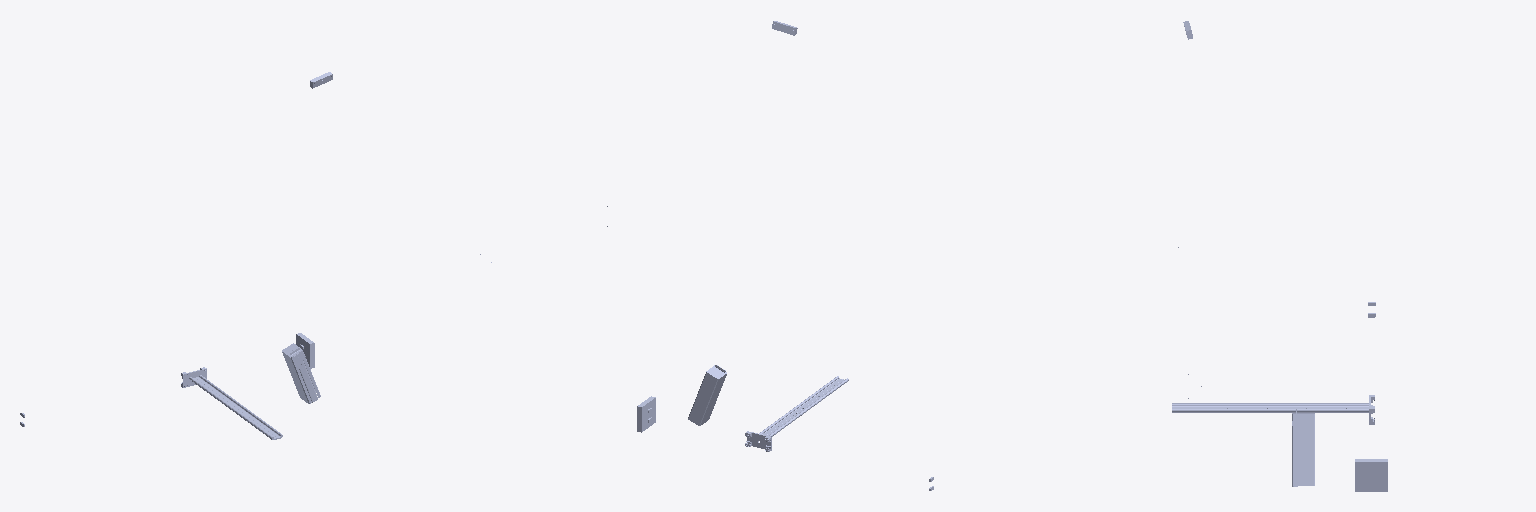
--- Facts derived from the render (not from the file) ---
Views: 3 orthographic renders of the robot side by side, from view 1: azimuth 30°, elevation 25°; view 2: azimuth 150°, elevation 25°; view 3: azimuth 270°, elevation 25°.
Model robo_description with 21 links and 20 joints (2 revolute, 2 prismatic, 16 fixed), rooted at base_link, posed joints at zero except 1 at the middle of their limits (joint5 = 0.4665).
Links seen in each view (by area): view 1: link2, link5; view 2: link2, link5, base_link; view 3: link2, link5, base_link.
Link boxes in pixels (box(x1,y1,x2,y2)): link2: box(181, 367, 282, 439); link5: box(282, 343, 320, 403); link2: box(745, 376, 848, 451); link5: box(688, 365, 726, 425); base_link: box(637, 396, 933, 490); link2: box(1172, 395, 1374, 424); link5: box(1292, 409, 1314, 486); base_link: box(1355, 302, 1387, 491).
Bounding box of the posed robot: 1.65 × 0.657 × 1.48 m (x, y, z).
Meshes: 6 distinct files referenced, 4 mesh visuals loaded (4 binary STL); not drawn: 2 (reference not matched to a file when rendering).

robot.urdf — robo_description:
<?xml version="1.0" encoding="utf-8"?>
<!-- 25AUG2023 Changed the minimum limit of lJoint5 to 0.247 and max to 0.686 -->
<!-- This URDF was automatically created by SolidWorks to URDF Exporter! Originally created by Stephen Brawner ([email redacted]) 
     Commit Version: 1.6.0-4-g7f85cfe  Build Version: 1.6.7995.38578
     For more information, please see http://wiki.ros.org/sw_urdf_exporter -->
<robot
  name="robo_description">
  <link
    name="base_link">
    <inertial>
      <origin
        xyz="-5.13826234849775E-17 -1.63904738952765E-17 0.339473684210526"
        rpy="0 0 0" />
      <mass
        value="19" />
      <inertia
        ixx="2.34956140350877"
        ixy="1.11311423041845E-17"
        ixz="3.69215798456927E-16"
        iyy="2.34956140350877"
        iyz="-7.44985984223617E-17"
        izz="0.151666666666667" />
    </inertial>
    <visual>
      <origin
        xyz="0 0 0"
        rpy="0 0 0" />
      <geometry>
        <mesh
          filename="package://robo_description/meshes/base_link.STL" />
      </geometry>
      <material
        name="">
        <color
          rgba="0.792156862745098 0.819607843137255 0.933333333333333 1" />
      </material>
    </visual>
    <collision>
      <origin
        xyz="0 0 0"
        rpy="0 0 0" />
      <geometry>
        <mesh
          filename="package://robo_description/meshes/base_link.STL" />
      </geometry>
    </collision>
  </link>
  <link
    name="link2">
    <inertial>
      <origin
        xyz="-0.001261 -0.2858 0.14572"
        rpy="0 0 0" />
      <mass
        value="3.13280329013611" />
      <inertia
        ixx="0.0169430024052603"
        ixy="-0.00280446630124331"
        ixz="0.0223183329111622"
        iyy="0.162057682822749"
        iyz="0.000505061238040558"
        izz="0.161640952999751" />
    </inertial>
    <visual>
      <origin
        xyz="0 0 -1"
        rpy="0 0 0" />
      <geometry>
        <mesh
          filename="package://robo_description/meshes/link2.STL" />
      </geometry>
      <material
        name="">
        <color
          rgba="0.792156862745098 0.819607843137255 0.933333333333333 1" />
      </material>
    </visual>
    <collision>
      <origin
        xyz="0 0 0"
        rpy="0 0 0" />
      <geometry>
        <mesh
          filename="package://robo_description/meshes/link2.STL" />
      </geometry>
    </collision>
  </link>
  <joint
    name="joint2"
    type="prismatic">
    <origin
      xyz="0.0 0 1"
      rpy="0 0 0" />
    <parent
      link="base_link" />
    <child
      link="link2" />
    <axis
      xyz="0 0 1" />
    <limit
      lower="0"
      upper="1"
      effort="0"
      velocity="0" />
  </joint>
  <link
    name="link4">
    <inertial>
      <origin
        xyz="-0.000438554587764983 0.0620490502692163 -0.172885898172371"
        rpy="0 0 0" />
      <mass
        value="0.162146723185788" />
      <inertia
        ixx="0.00336616371871891"
        ixy="1.46811284877534E-06"
        ixz="-3.57096843523024E-06"
        iyy="0.00312866852492012"
        iyz="0.00048231220150353"
        izz="0.000338308018448651" />
    </inertial>
    <visual>
      <origin
        xyz="-0.4665 0 -0.790"
        rpy="0 0 0" />
      <geometry>
        <mesh
          filename="package://robo_description/meshes/link4.STL" />
      </geometry>
      <material
        name="">
        <color
          rgba="0.792156862745098 0.819607843137255 0.933333333333333 1" />
      </material>
    </visual>
    <collision>
      <origin
        xyz="0 0 0"
        rpy="0 0 0" />
      <geometry>
        <mesh
          filename="package://robo_description/meshes/link4.STL" />
      </geometry>
    </collision>
  </link>
  <joint
    name="joint4"
    type="revolute">
    <origin
      xyz="0.46904 0 -0.21"
      rpy="0 0 0" />
    <parent
      link="link2" />
    <child
      link="link4" />
    <axis
      xyz="0 0 1" />
    <limit
      lower="-2.9671"
      upper="2.9671"
      effort="0"
      velocity="0" />
  </joint>
  <link
    name="link3">
    <inertial>
      <origin
        xyz="-0.0832189655707039 -0.0894795892974461 -0.00179630042130147"
        rpy="0 0 0" />
      <mass
        value="1.71811977068641" />
      <inertia
        ixx="0.00948440583507882"
        ixy="-0.00159429497921182"
        ixz="0.00308193362516688"
        iyy="0.035537875179704"
        iyz="0.000648421421055908"
        izz="0.0305779645247813" />
    </inertial>
    <visual>
      <origin
        xyz="-0.468545 -0.078 -0.43528"
        rpy="0 0 0" />
      <geometry>
        <mesh
          filename="package://robo_description/meshes/link3.STL" />
      </geometry>
      <material
        name="">
        <color
          rgba="0.792156862745098 0.819607843137255 0.933333333333333 1" />
      </material>
    </visual>
    <collision>
      <origin
        xyz="0 0 0"
        rpy="0 0 0" />
      <geometry>
        <mesh
          filename="package://robo_description/meshes/link3.STL" />
      </geometry>
    </collision>
  </link>
  <joint
    name="joint3"
    type="revolute">
    <origin
      xyz="0.0 0.077824 -0.35472"
      rpy="0 0 0" />
    <parent
      link="link4" />
    <child
      link="link3" />
    <axis
      xyz="0 1 0" />
    <limit
      lower="-1.5708"
      upper="1.5708"
      effort="0"
      velocity="0" />
  </joint>
  <link
    name="yanthra_link">
    <inertial>
      <origin
        xyz="-0.0832189655707036 -0.0114795892974462 -0.00179630042130124"
        rpy="0 0 0" />
      <mass
        value="1.71811977068641" />
      <inertia
        ixx="0.00948440583507882"
        ixy="-0.00159429497921182"
        ixz="0.0030819336251669"
        iyy="0.035537875179704"
        iyz="0.000648421421055907"
        izz="0.0305779645247813" />
    </inertial>
    <visual>
      <origin
        xyz="0 0 0"
        rpy="0 0 0" />
      <geometry>
        <box size="0.001 0.001 0.001"/>
      </geometry>
      <material
        name="">
        <color
          rgba="0.792156862745098 0.819607843137255 0.933333333333333 1" />
      </material>
    </visual>
    <collision>
      <origin
        xyz="0 0 0"
        rpy="0 0 0" />
      <geometry>
        <box size="0.001 0.001 0.001"/>
      </geometry>
    </collision>
  </link>
  <joint
    name="yanthra_joint"
    type="fixed">
    <origin
      xyz="0 -0.078 0"
      rpy="0 0 0" />
    <parent
      link="link3" />
    <child
      link="yanthra_link" />
    <axis
      xyz="0 0 0" />
  </joint>
  <link
    name="link5_origin">
    <inertial>
      <origin
        xyz="-0.00874999999999998 0.0375 -0.00507843424240889"
        rpy="0 0 0" />
      <mass
        value="0.0438088883035136" />
      <inertia
        ixx="3.24913884800222E-05"
        ixy="1.33063310958086E-21"
        ixz="-8.470329472543E-22"
        iyy="3.99574478810853E-06"
        iyz="-3.38875204913906E-21"
        izz="3.07317223657389E-05" />
    </inertial>
    <visual>
      <origin
        xyz="0 0 0"
        rpy="0 0 0" />
      <geometry>
        <box size="0.001 0.001 0.001"/>
      </geometry>
      <material
        name="">
        <color
          rgba="0.792156862745098 0.819607843137255 0.933333333333333 1" />
      </material>
    </visual>
    <collision>
      <origin
        xyz="0 0 0"
        rpy="0 0 0" />
      <geometry>
        <box size="0.001 0.001 0.001"/>
      </geometry>
    </collision>
  </link>
  <joint
    name="link5_origin_joint"
    type="fixed">
    <origin
      xyz="0 0 0.0"
      rpy="0 0 0" />
    <parent	
      link="yanthra_link" />
    <child
      link="link5_origin" />
    <axis
      xyz="0 0 0" />
  </joint>
  <link
    name="link5">
    <inertial>
      <origin
        xyz="0.108132413871145 2.08242781028485E-06 0.00569147154470495"
        rpy="0 0 0" />
      <mass
        value="0.277404400359573" />
      <inertia
        ixx="0.00021628976171093"
        ixy="1.27900715148446E-06"
        ixz="-0.000135093187106687"
        iyy="0.00359200319167061"
        iyz="-8.36237914028336E-08"
        izz="0.00358633509004247" />
    </inertial>
    <visual>
      <origin
        xyz="-0.715545 0 -0.43528"
        rpy="0 0 0" />
      <geometry>
        <mesh
          filename="package://robo_description/meshes/link5.STL" />
      </geometry>
      <material
        name="">
        <color
          rgba="0.792156862745098 0.819607843137255 0.933333333333333 1" />
      </material>
    </visual>
    <collision>
      <origin
        xyz="0 0 0"
        rpy="0 0 0" />
      <geometry>
        <mesh
          filename="package://robo_description/meshes/link5.STL" />
      </geometry>
    </collision>
  </link>
  <joint
    name="joint5"
    type="prismatic">
    <origin
      xyz="0.0 0 0"
      rpy="0 0 0" />
    <parent
      link="link5_origin" />
    <child
      link="link5" />
    <axis
      xyz="1 0 0" />
    <limit
      lower="0.247"
      upper="0.686"
      effort="0"
      velocity="0" />
  </joint>
  <link
    name="ee_link">
    <inertial>
      <origin
        xyz="-0.00874999999999998 0.0375 -0.00507843424240889"
        rpy="0 0 0" />
      <mass
        value="0.0438088883035136" />
      <inertia
        ixx="3.24913884800222E-05"
        ixy="1.33063310958086E-21"
        ixz="-8.470329472543E-22"
        iyy="3.99574478810853E-06"
        iyz="-3.38875204913906E-21"
        izz="3.07317223657389E-05" />
    </inertial>
    <visual>
      <origin
        xyz="0 0 0"
        rpy="0 0 0" />
      <geometry>
        <box size="0.001 0.001 0.001"/>
      </geometry>
      <material
        name="">
        <color
          rgba="0.792156862745098 0.819607843137255 0.933333333333333 1" />
      </material>
    </visual>
    <collision>
      <origin
        xyz="0 0 0"
        rpy="0 0 0" />
      <geometry>
        <box size="0.001 0.001 0.001"/>
      </geometry>
    </collision>
  </link>
  <joint
    name="ee_joint"
    type="fixed">
    <origin
      xyz="-0.085 0 0"
      rpy="0 0 0" />
    <parent	
      link="link5" />
    <child
      link="ee_link" />
    <axis
      xyz="0 0 0" />
  </joint>
  <link
    name="aruco_marker_link">
    <inertial>
      <origin
        xyz="-0.00874999999999998 0.0375 -0.00507843424240889"
        rpy="0 0 0" />
      <mass
        value="0.0438088883035136" />
      <inertia
        ixx="3.24913884800222E-05"
        ixy="1.33063310958086E-21"
        ixz="-8.470329472543E-22"
        iyy="3.99574478810853E-06"
        iyz="-3.38875204913906E-21"
        izz="3.07317223657389E-05" />
    </inertial>
    <visual>
      <origin
        xyz="0 0 0"
        rpy="0 0 0" />
      <geometry>
        <box size="0.001 0.001 0.001"/>
      </geometry>
      <material
        name="">
        <color
          rgba="0.792156862745098 0.819607843137255 0.933333333333333 1" />
      </material>
    </visual>
    <collision>
      <origin
        xyz="0 0 0"
        rpy="0 0 0" />
      <geometry>
        <box size="0.001 0.001 0.001"/>
      </geometry>
    </collision>
  </link>
  <joint
    name="aruco_joint"
    type="fixed">
    <origin
      xyz="0.0 0 0.08"
      rpy="0 0 0" />
    <parent	
      link="ee_link" />
    <child
      link="aruco_marker_link" />
    <axis
      xyz="0 0 0" />
  </joint>
  <link
    name="aruco_link_1">
    <inertial>
      <origin
        xyz="-0.00874999999999998 0.0375 -0.00507843424240889"
        rpy="0 0 0" />
      <mass
        value="0.0438088883035136" />
      <inertia
        ixx="3.24913884800222E-05"
        ixy="1.33063310958086E-21"
        ixz="-8.470329472543E-22"
        iyy="3.99574478810853E-06"
        iyz="-3.38875204913906E-21"
        izz="3.07317223657389E-05" />
    </inertial>
    <visual>
      <origin
        xyz="0 0 0"
        rpy="0 0 0" />
      <geometry>
        <box size="0.001 0.001 0.001"/>
      </geometry>
      <material
        name="">
        <color
          rgba="0.792156862745098 0.819607843137255 0.933333333333333 1" />
      </material>
    </visual>
    <collision>
      <origin
        xyz="0 0 0"
        rpy="0 0 0" />
      <geometry>
        <box size="0.001 0.001 0.001"/>
      </geometry>
    </collision>
  </link>
  <joint
    name="aruco_joint_1"
    type="fixed">
    <origin
      xyz="0.0 0.04 0.04"
      rpy="0 0 0" />
    <parent	
      link="aruco_marker_link" />
    <child
      link="aruco_link_1" />
    <axis
      xyz="0 0 0" />
  </joint>
  <link
    name="aruco_link_2">
    <inertial>
      <origin
        xyz="-0.00874999999999998 0.0375 -0.00507843424240889"
        rpy="0 0 0" />
      <mass
        value="0.0438088883035136" />
      <inertia
        ixx="3.24913884800222E-05"
        ixy="1.33063310958086E-21"
        ixz="-8.470329472543E-22"
        iyy="3.99574478810853E-06"
        iyz="-3.38875204913906E-21"
        izz="3.07317223657389E-05" />
    </inertial>
    <visual>
      <origin
        xyz="0 0 0"
        rpy="0 0 0" />
      <geometry>
        <box size="0.001 0.001 0.001"/>
      </geometry>
      <material
        name="">
        <color
          rgba="0.792156862745098 0.819607843137255 0.933333333333333 1" />
      </material>
    </visual>
    <collision>
      <origin
        xyz="0 0 0"
        rpy="0 0 0" />
      <geometry>
        <box size="0.001 0.001 0.001"/>
      </geometry>
    </collision>
  </link>
  <joint
    name="aruco_joint_2"
    type="fixed">
    <origin
      xyz="0.0 -0.04 0.04"
      rpy="0 0 0" />
    <parent	
      link="aruco_marker_link" />
    <child
      link="aruco_link_2" />
    <axis
      xyz="0 0 0" />
  </joint>
  <link
    name="aruco_link_3">
    <inertial>
      <origin
        xyz="-0.00874999999999998 0.0375 -0.00507843424240889"
        rpy="0 0 0" />
      <mass
        value="0.0438088883035136" />
      <inertia
        ixx="3.24913884800222E-05"
        ixy="1.33063310958086E-21"
        ixz="-8.470329472543E-22"
        iyy="3.99574478810853E-06"
        iyz="-3.38875204913906E-21"
        izz="3.07317223657389E-05" />
    </inertial>
    <visual>
      <origin
        xyz="0 0 0"
        rpy="0 0 0" />
      <geometry>
        <box size="0.001 0.001 0.001"/>
      </geometry>
      <material
        name="">
        <color
          rgba="0.792156862745098 0.819607843137255 0.933333333333333 1" />
      </material>
    </visual>
    <collision>
      <origin
        xyz="0 0 0"
        rpy="0 0 0" />
      <geometry>
        <box size="0.001 0.001 0.001"/>
      </geometry>
    </collision>
  </link>
  <joint
    name="aruco_joint_3"
    type="fixed">
    <origin
      xyz="0.0 0.04 -0.04"
      rpy="0 0 0" />
    <parent	
      link="aruco_marker_link" />
    <child
      link="aruco_link_3" />
    <axis
      xyz="0 0 0" />
  </joint>
  <link
    name="aruco_link_4">
    <inertial>
      <origin
        xyz="-0.00874999999999998 0.0375 -0.00507843424240889"
        rpy="0 0 0" />
      <mass
        value="0.0438088883035136" />
      <inertia
        ixx="3.24913884800222E-05"
        ixy="1.33063310958086E-21"
        ixz="-8.470329472543E-22"
        iyy="3.99574478810853E-06"
        iyz="-3.38875204913906E-21"
        izz="3.07317223657389E-05" />
    </inertial>
    <visual>
      <origin
        xyz="0 0 0"
        rpy="0 0 0" />
      <geometry>
        <box size="0.001 0.001 0.001"/>
      </geometry>
      <material
        name="">
        <color
          rgba="0.792156862745098 0.819607843137255 0.933333333333333 1" />
      </material>
    </visual>
    <collision>
      <origin
        xyz="0 0 0"
        rpy="0 0 0" />
      <geometry>
        <box size="0.001 0.001 0.001"/>
      </geometry>
    </collision>
  </link>
  <joint
    name="aruco_joint_4"
    type="fixed">
    <origin
      xyz="0.0 -0.04 -0.04"
      rpy="0 0 0" />
    <parent	
      link="aruco_marker_link" />
    <child
      link="aruco_link_4" />
    <axis
      xyz="0 0 0" />
  </joint>
  <link
    name="link7">
    <inertial>
      <origin
        xyz="-0.00129487747822488 -0.0114795892973884 0.11996423535158"
        rpy="0 0 0" />
      <mass
        value="1.71811977068641" />
      <inertia
        ixx="0.0113386071435481"
        ixy="-0.00171490439294498"
        ixz="-0.00672100859249017"
        iyy="0.0355378751797041"
        iyz="-0.0001460470577602"
        izz="0.0287237632163119" />
    </inertial>
    <visual>
      <origin
        xyz="0 0 0"
        rpy="0 0 0" />
      <geometry>
        <box size="0.001 0.001 0.001"/>
      </geometry>
      <material
        name="">
        <color
          rgba="0.792156862745098 0.819607843137255 0.933333333333333 1" />
      </material>
    </visual>
    <collision>
      <origin
        xyz="0 0 0"
        rpy="0 0 0" />
      <geometry>
        <box size="0.001 0.001 0.001"/>
      </geometry>
    </collision>
  </link>
  <joint
    name="joint7"
    type="fixed">
    <origin
      xyz="0.47229 -0.069971 0.80411"
      rpy="0 0.785398 -1.5708" />
    <parent
      link="base_link"/>
    <child
      link="link7"/>
    <axis
      xyz="0 0 0" />
  </joint>
  <link
    name="camera_mount_link">
    <inertial>
      <origin
        xyz="-0.00129487747822488 -0.0114795892973883 0.11996423535158"
        rpy="0 0 0" />
      <mass
        value="1.71811977068641" />
      <inertia
        ixx="0.0113386071435481"
        ixy="-0.00171490439294498"
        ixz="-0.00672100859249018"
        iyy="0.0355378751797041"
        iyz="-0.000146047057760202"
        izz="0.0287237632163119" />
    </inertial>
    <visual>
      <origin
        xyz="0 0 0"
        rpy="0 0 0" />
      <geometry>
        <box size="0.001 0.001 0.001"/>
      </geometry>
      <material
        name="">
        <color
          rgba="0.792156862745098 0.819607843137255 0.933333333333333 1" />
      </material>
    </visual>
    <collision>
      <origin
        xyz="0 0 0"
        rpy="0 0 0" />
      <geometry>
        <box size="0.001 0.001 0.001"/>
      </geometry>
    </collision>
  </link>
     <!--Realsense Camera depth is 20 mm from back to glass, But the depth start point(GROUND ZERO REFERENCE i.e depth is Zero) is 1.1 mm behind glass-->
     <!--Camera thickness-Zero Ref +Plate thick=20-1.1+2 = 20.09 mm -->
     <!-- xyz="0.0209 -0.0375 0"-->
  <joint
    name="camera_mount_joint"
    type="fixed">
    <origin
      xyz="0.02090 -0.0375 0"
      rpy="-1.5708 0 -1.5708" />
    <parent
      link="link7" />
    <child
      link="camera_mount_link" />
    <axis
      xyz="0 0 0" />
  </joint>
  <link
    name="virtual_cam_link">
    <inertial>
      <origin
        xyz="-0.00874999999999998 0.0375 -0.00507843424240889"
        rpy="0 0 0" />
      <mass
        value="0.0438088883035136" />
      <inertia
        ixx="3.24913884800222E-05"
        ixy="1.33063310958086E-21"
        ixz="-8.470329472543E-22"
        iyy="3.99574478810853E-06"
        iyz="-3.38875204913906E-21"
        izz="3.07317223657389E-05" />
    </inertial>
    <visual>
      <origin
        xyz="0 0 0"
        rpy="0 0 0" />
      <geometry>
        <box size="0.001 0.001 0.001"/>
      </geometry>
      <material
        name="">
        <color
          rgba="0.792156862745098 0.819607843137255 0.933333333333333 1" />
      </material>
    </visual>
    <collision>
      <origin
        xyz="0 0 0"
        rpy="0 0 0" />
      <geometry>
        <box size="0.001 0.001 0.001"/>
      </geometry>
    </collision>
  </link>
  <joint
    name="virtual_cam_link_joint"
    type="fixed">
    <origin
      xyz="0 0 0"
      rpy="0 0 0" />
    <parent	
      link="camera_mount_link" />
    <child
      link="virtual_cam_link" />
    <axis
      xyz="0 0 0" />
  </joint>

  <link
    name="camera_link">
    <inertial>
      <origin
        xyz="-0.00874999999999998 0.0375 -0.00507843424240889"
        rpy="0 0 0" />
      <mass
        value="0.0438088883035136" />
      <inertia
        ixx="3.24913884800222E-05"
        ixy="1.33063310958086E-21"
        ixz="-8.470329472543E-22"
        iyy="3.99574478810853E-06"
        iyz="-3.38875204913906E-21"
        izz="3.07317223657389E-05" />
    </inertial>
    <visual>
      <origin
        xyz="-0.03768 -0.425 -0.175"
        rpy="0 -2.04 -1.5708" />
      <geometry>
        <mesh
          filename="package://robo_description/meshes/camera_link.STL" />
      </geometry>
      <material
        name="">
        <color
          rgba="0.792156862745098 0.819607843137255 0.933333333333333 1" />
      </material>
    </visual>
    <collision>
      <origin
        xyz="0 0 0"
        rpy="0 0 0" />
      <geometry>
        <mesh
          filename="package://robo_description/meshes/camera_link.STL" />
      </geometry>
    </collision>
  </link>
  <joint
    name="camera_link_joint"
    type="fixed">
    <origin
      xyz="0.0318145 0.0192773 -0.0559034"
      rpy="0.243233 -0.149607 0.0182808" />
    <parent
      link="virtual_cam_link" />
    <child
      link="camera_link" />
    <axis
      xyz="0 0 0" />
  </joint>

  <link name="camera_depth_frame">

    <visual>

    <origin xyz="0 0 0" rpy="0 0 0" />

      <geometry>

        <box size="0.001 0.001 0.001"/>

      </geometry>

    </visual>

  </link>

  <joint name="camera_depth_frame_joint" type="fixed">

    <origin rpy="0 0 0" xyz="0 0 0"/>

    <parent link="camera_link"/>

    <child link="camera_depth_frame"/>

  </joint>

  <link name="camera_depth_optical_frame">

    <visual>

    <origin xyz="0 0 0" rpy="0 0 0" />

      <geometry>

        <box size="0.001 0.001 0.001"/>

      </geometry>

    </visual>

  </link>

  <joint name="camera_depth_optical_frame_joint" type="fixed">

   <origin rpy="0 0 0" xyz="0 0 0"/>

   <parent link="camera_depth_frame"/>

   <child link="camera_depth_optical_frame"/>

  </joint>

  <link name="camera_color_frame">

    <visual>

    <origin xyz="0 0 0" rpy="0 0 0" />

      <geometry>

        <box size="0.001 0.001 0.001"/>

      </geometry>

    </visual>

  </link>

  <joint name="camera_color_frame_joint" type="fixed">

    <origin rpy="0 0 0" xyz="0 0 0"/>

    <parent link="camera_link"/>

    <child link="camera_color_frame"/>

  </joint>

  <link name="camera_color_optical_frame">

    <visual>

    <origin xyz="0 0 0" rpy="0 0 0" />

      <geometry>

        <box size="0.001 0.001 0.001"/>

      </geometry>

    </visual>

  </link>

  <joint name="camera_color_optical_frame_joint" type="fixed">

   <origin rpy="0 0 0" xyz="0 0 0"/>

   <parent link="camera_color_frame"/>

   <child link="camera_color_optical_frame"/>

  </joint>
  <gazebo reference="stand">

    <material>Gazebo/Grey</material>

  </gazebo>

  <gazebo reference="link3">

    <material>Gazebo/Green</material>

  </gazebo>

  <gazebo reference="link4">

    <material>Gazebo/Red</material>

  </gazebo>

  <gazebo reference="link5">

    <material>Gazebo/Green</material>

  </gazebo>

  <gazebo reference="link9">

    <material>Gazebo/Red</material>

  </gazebo>

  <gazebo reference="link6">

    <material>Gazebo/White</material>

  </gazebo>

  <transmission name="tran1">

    <type>transmission_interface/SimpleTransmission</type>

    <joint name="joint3">

      <hardwareInterface>hardware_interface/PositionJointInterface</hardwareInterface>

    </joint>

    <actuator name="motor1">

      <hardwareInterface>hardware_interface/PositionJointInterface</hardwareInterface>

      <mechanicalReduction>1</mechanicalReduction>

    </actuator>

  </transmission>

  <transmission name="tran1">

    <type>transmission_interface/SimpleTransmission</type>

    <joint name="joint4">

      <hardwareInterface>hardware_interface/PositionJointInterface</hardwareInterface>

    </joint>

    <actuator name="motor1">

      <hardwareInterface>hardware_interface/PositionJointInterface</hardwareInterface>

      <mechanicalReduction>1</mechanicalReduction>

    </actuator>

  </transmission>

  <transmission name="tran1">

    <type>transmission_interface/SimpleTransmission</type>

    <joint name="joint5">

      <hardwareInterface>hardware_interface/PositionJointInterface</hardwareInterface>

    </joint>

    <actuator name="motor1">

      <hardwareInterface>hardware_interface/PositionJointInterface</hardwareInterface>

      <mechanicalReduction>1</mechanicalReduction>

    </actuator>

  </transmission>

  <gazebo>

    <plugin filename="libgazebo_ros_control.so" name="gazebo_ros_control">

      <robotNameSpace>/arm_controller</robotNameSpace>

    </plugin>

  </gazebo>

</robot>
